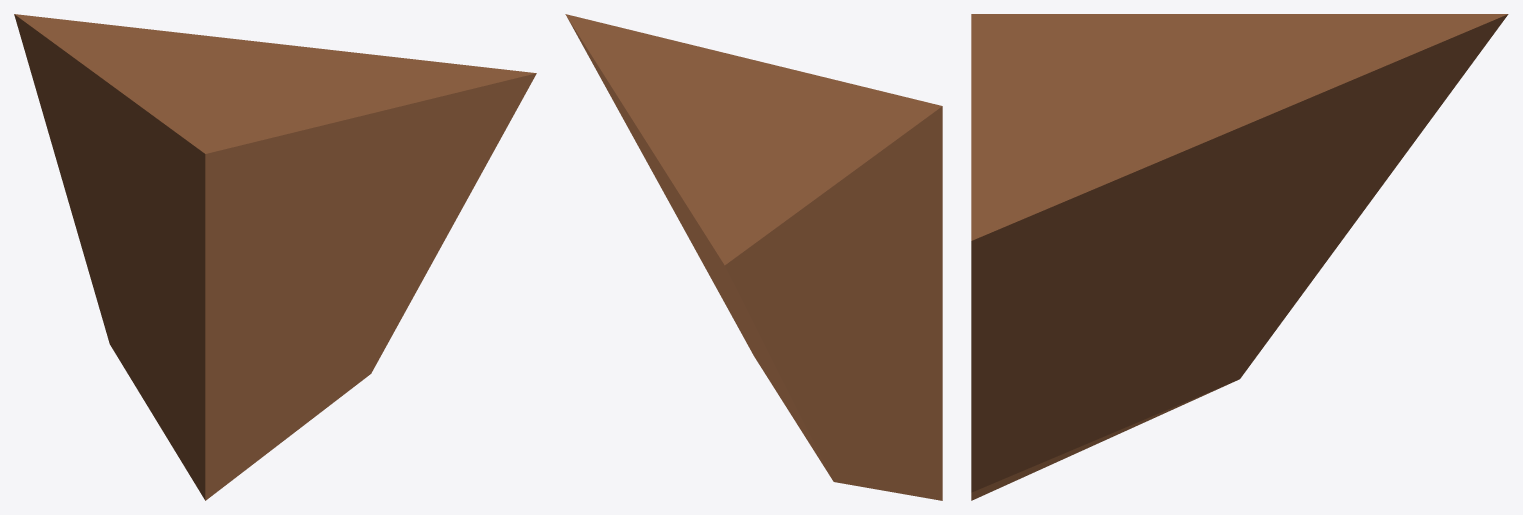
File: blockCornerCliff.glb
3 renders of one model, left to right at view 1: azimuth 30°, elevation 25°; view 2: azimuth 150°, elevation 25°; view 3: azimuth 270°, elevation 25°, orthographic. The views are drawn at different scales.
Visible parts, largest first — view 1: blockCornerCliff; view 2: blockCornerCliff; view 3: blockCornerCliff.
Boxes of the visible parts, x1,y1,x2,y2 form: blockCornerCliff: [14, 14, 536, 500]; blockCornerCliff: [565, 14, 942, 500]; blockCornerCliff: [971, 14, 1508, 500].
Bounding box in the file's own units: 1 × 1 × 1.
